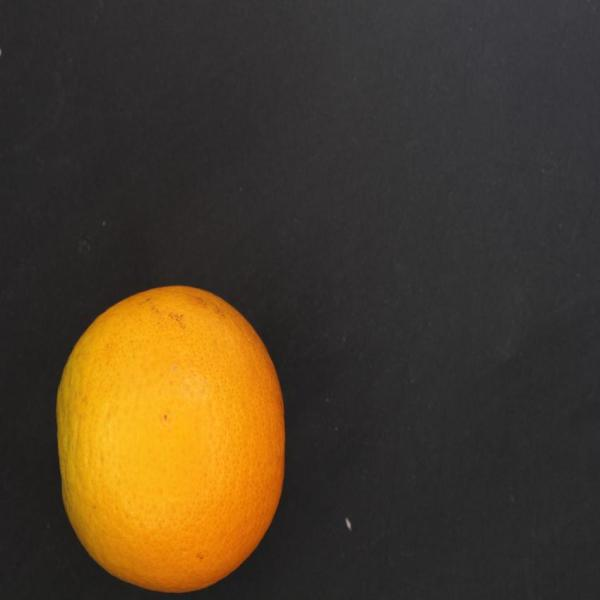Sana: (47, 274, 301, 594)
